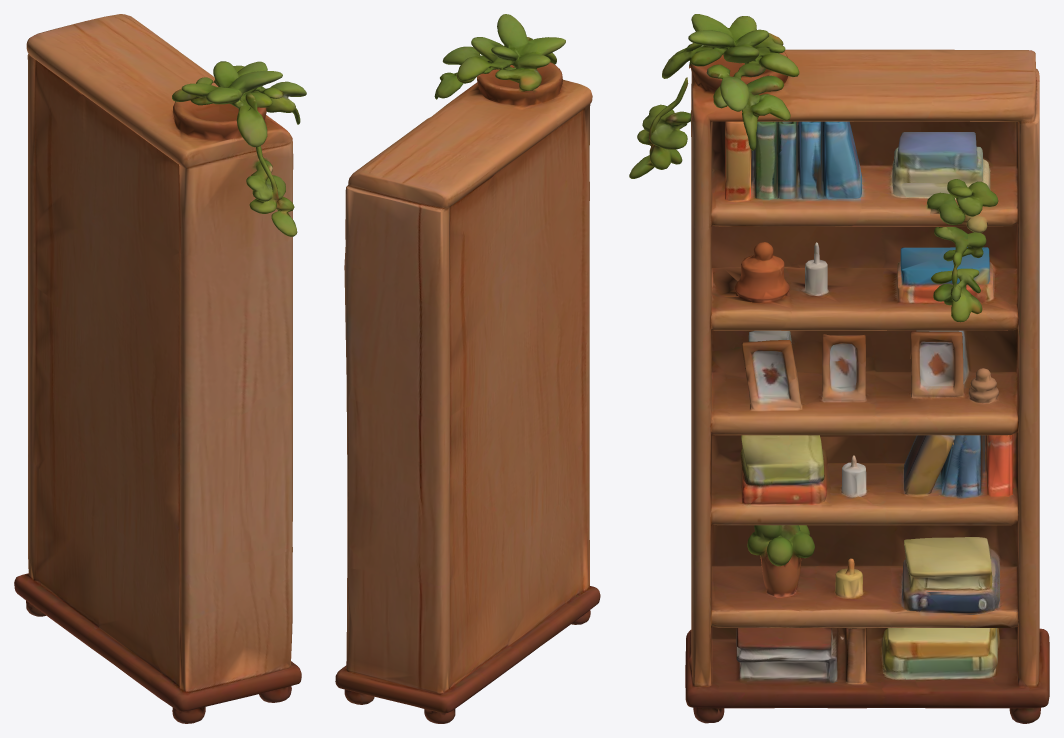
Rendered from bookshelf.glb.
3 views of the same model, side by side, from view 1: azimuth 30°, elevation 25°; view 2: azimuth 150°, elevation 25°; view 3: azimuth 270°, elevation 25° (orthographic). The views are drawn at different scales.
Parts seen in each view (by area): view 1: tripo_node_85a3ba26-e69f-40f9-973e-76b35aee27bb; view 2: tripo_node_85a3ba26-e69f-40f9-973e-76b35aee27bb; view 3: tripo_node_85a3ba26-e69f-40f9-973e-76b35aee27bb.
Part boxes in pixels (x1,y1,x2,y2): tripo_node_85a3ba26-e69f-40f9-973e-76b35aee27bb: (14, 14, 306, 723); tripo_node_85a3ba26-e69f-40f9-973e-76b35aee27bb: (335, 14, 600, 723); tripo_node_85a3ba26-e69f-40f9-973e-76b35aee27bb: (629, 14, 1049, 723).
Bounding box in the file's own units: 0.2514 × 0.9997 × 0.5592.
1 material, 1 textured.
